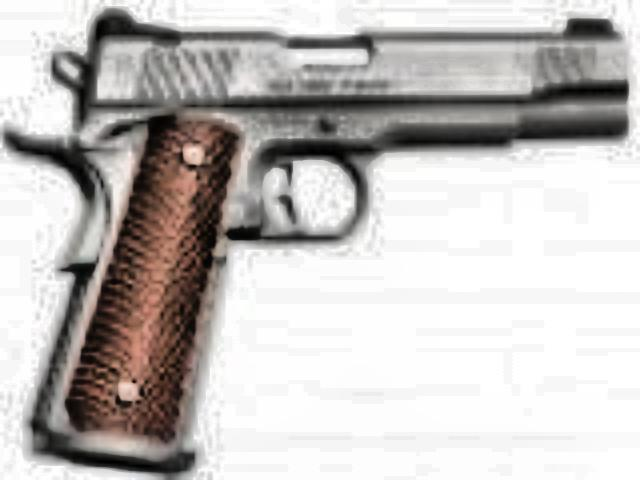pistol: (4, 4, 616, 476)
